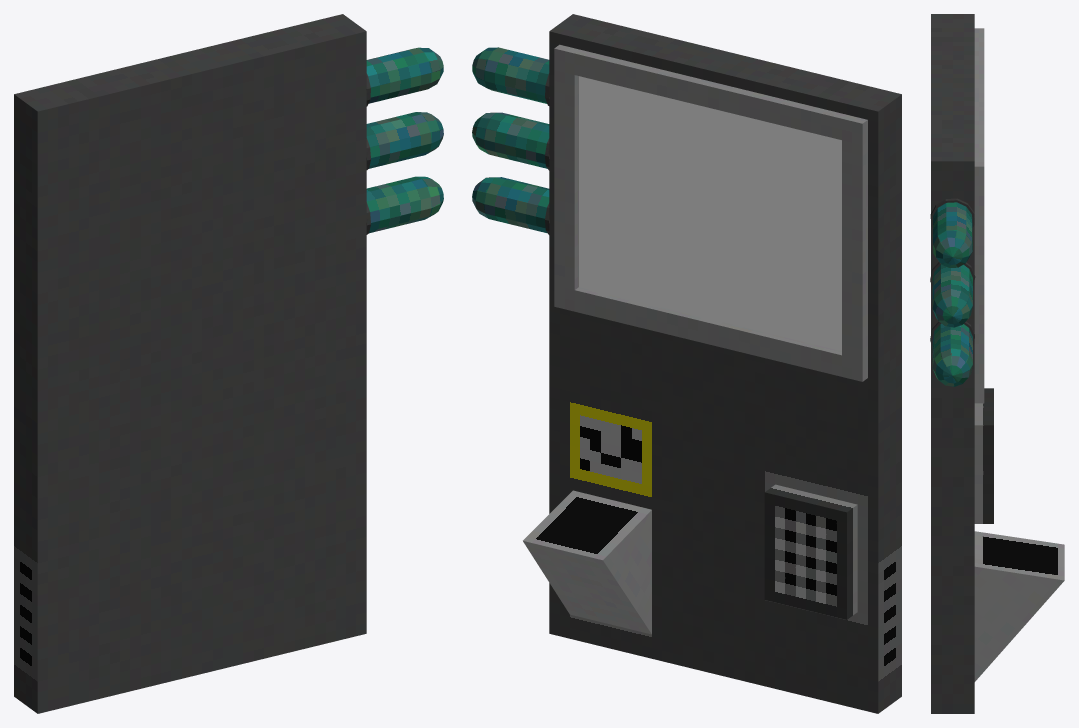
The model's file is QuotaSubmittionKioskMachine.gltf.
The picture shows the model from 3 angles, left to right: view 1: azimuth 30°, elevation 25°; view 2: azimuth 150°, elevation 25°; view 3: azimuth 270°, elevation 25°; orthographic projection. The views are drawn at different scales.
Visible parts, largest first — view 1: mesh, BulbGlass (×3); view 2: mesh, ScreenMesh, BulbGlass (×3); view 3: mesh, BulbGlass (×3), cylinder.
Part boxes in pixels (box(x1,y1,x2,y2)): mesh: box(14, 14, 366, 713); BulbGlass (×3): box(366, 47, 443, 233); mesh: box(523, 14, 901, 713); ScreenMesh: box(579, 76, 841, 351); BulbGlass (×3): box(472, 47, 549, 233); mesh: box(931, 14, 1064, 713); BulbGlass (×3): box(932, 202, 972, 386); cylinder: box(930, 198, 974, 228).
Size of the model in its own units: 1.26 by 1.75 by 0.3859.
Materials: 4 (3 with a texture image).
